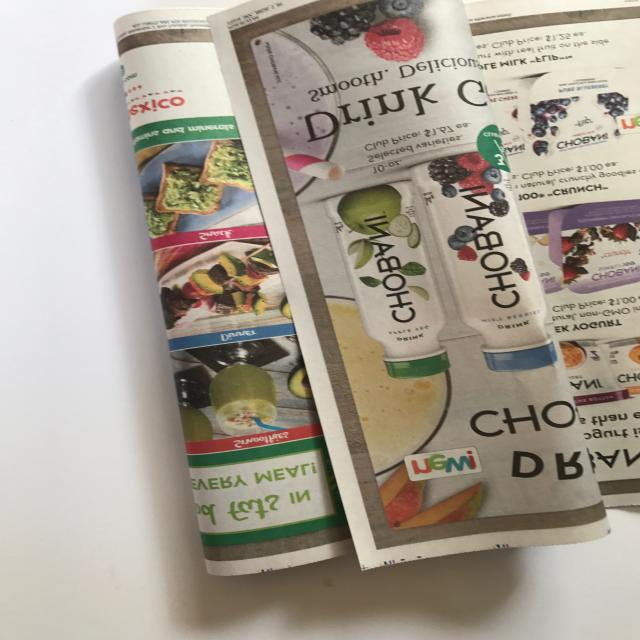paper: (89, 0, 640, 577)
